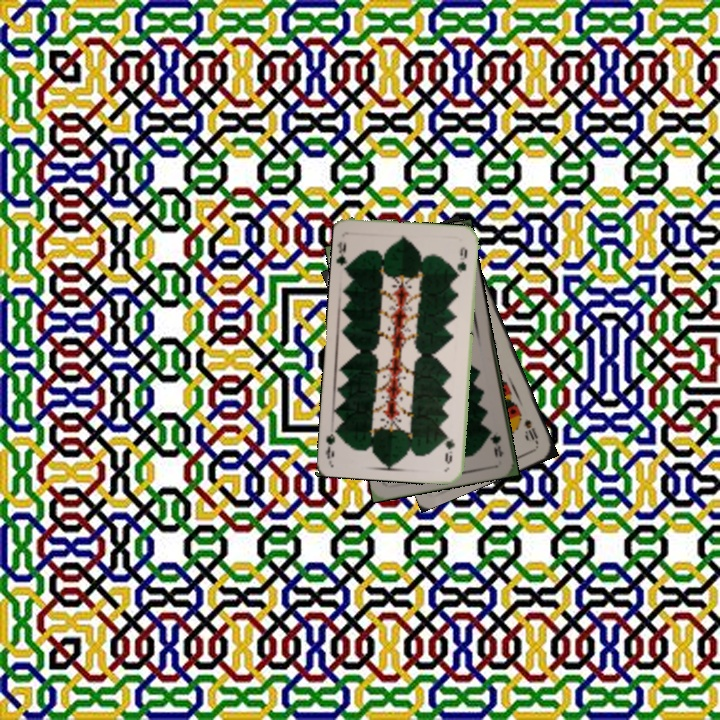G9: (334, 238, 354, 272), (487, 430, 506, 460), (441, 431, 457, 466)
S10: (519, 415, 541, 447)
